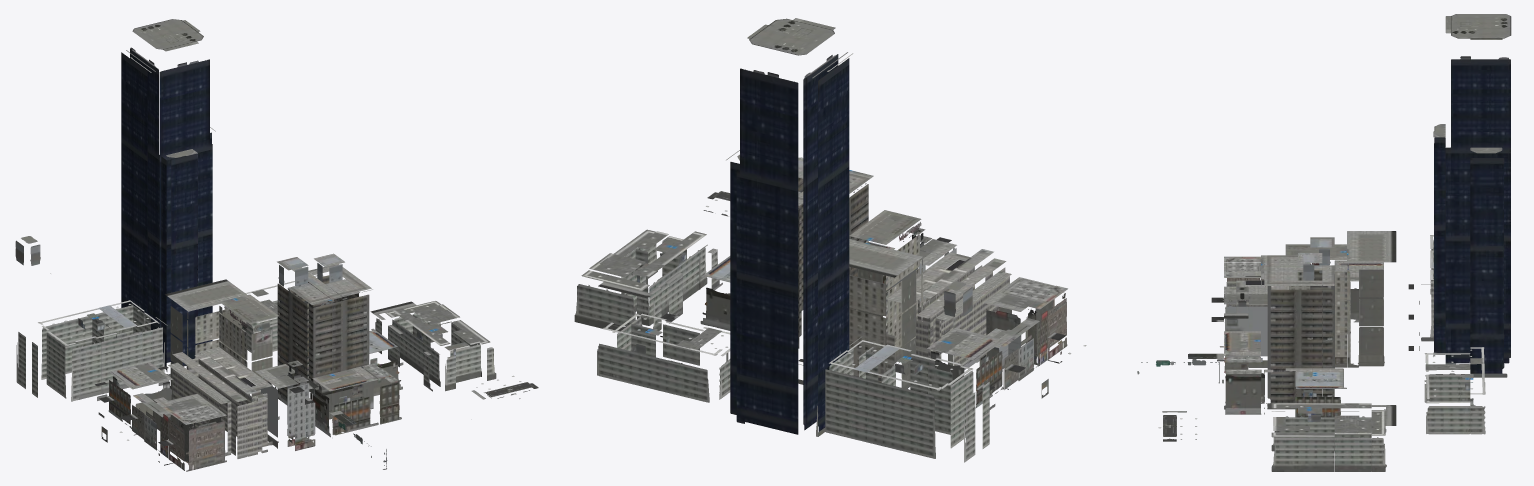
Rendered from block-citya-2-imp.glb.
3 views of the same model, side by side, from view 1: azimuth 30°, elevation 25°; view 2: azimuth 150°, elevation 25°; view 3: azimuth 270°, elevation 25° (orthographic). The views are drawn at different scales.
Visible parts, largest first — view 1: block-citya-2-imp; view 2: block-citya-2-imp; view 3: block-citya-2-imp.
Part boxes in pixels (bbox=[...]): block-citya-2-imp: bbox=[15, 19, 538, 471]; block-citya-2-imp: bbox=[574, 18, 1086, 462]; block-citya-2-imp: bbox=[1137, 14, 1511, 471].
Bounding box in the file's own units: 54 × 44.75 × 48.
Materials: 1 (1 with a texture image).
